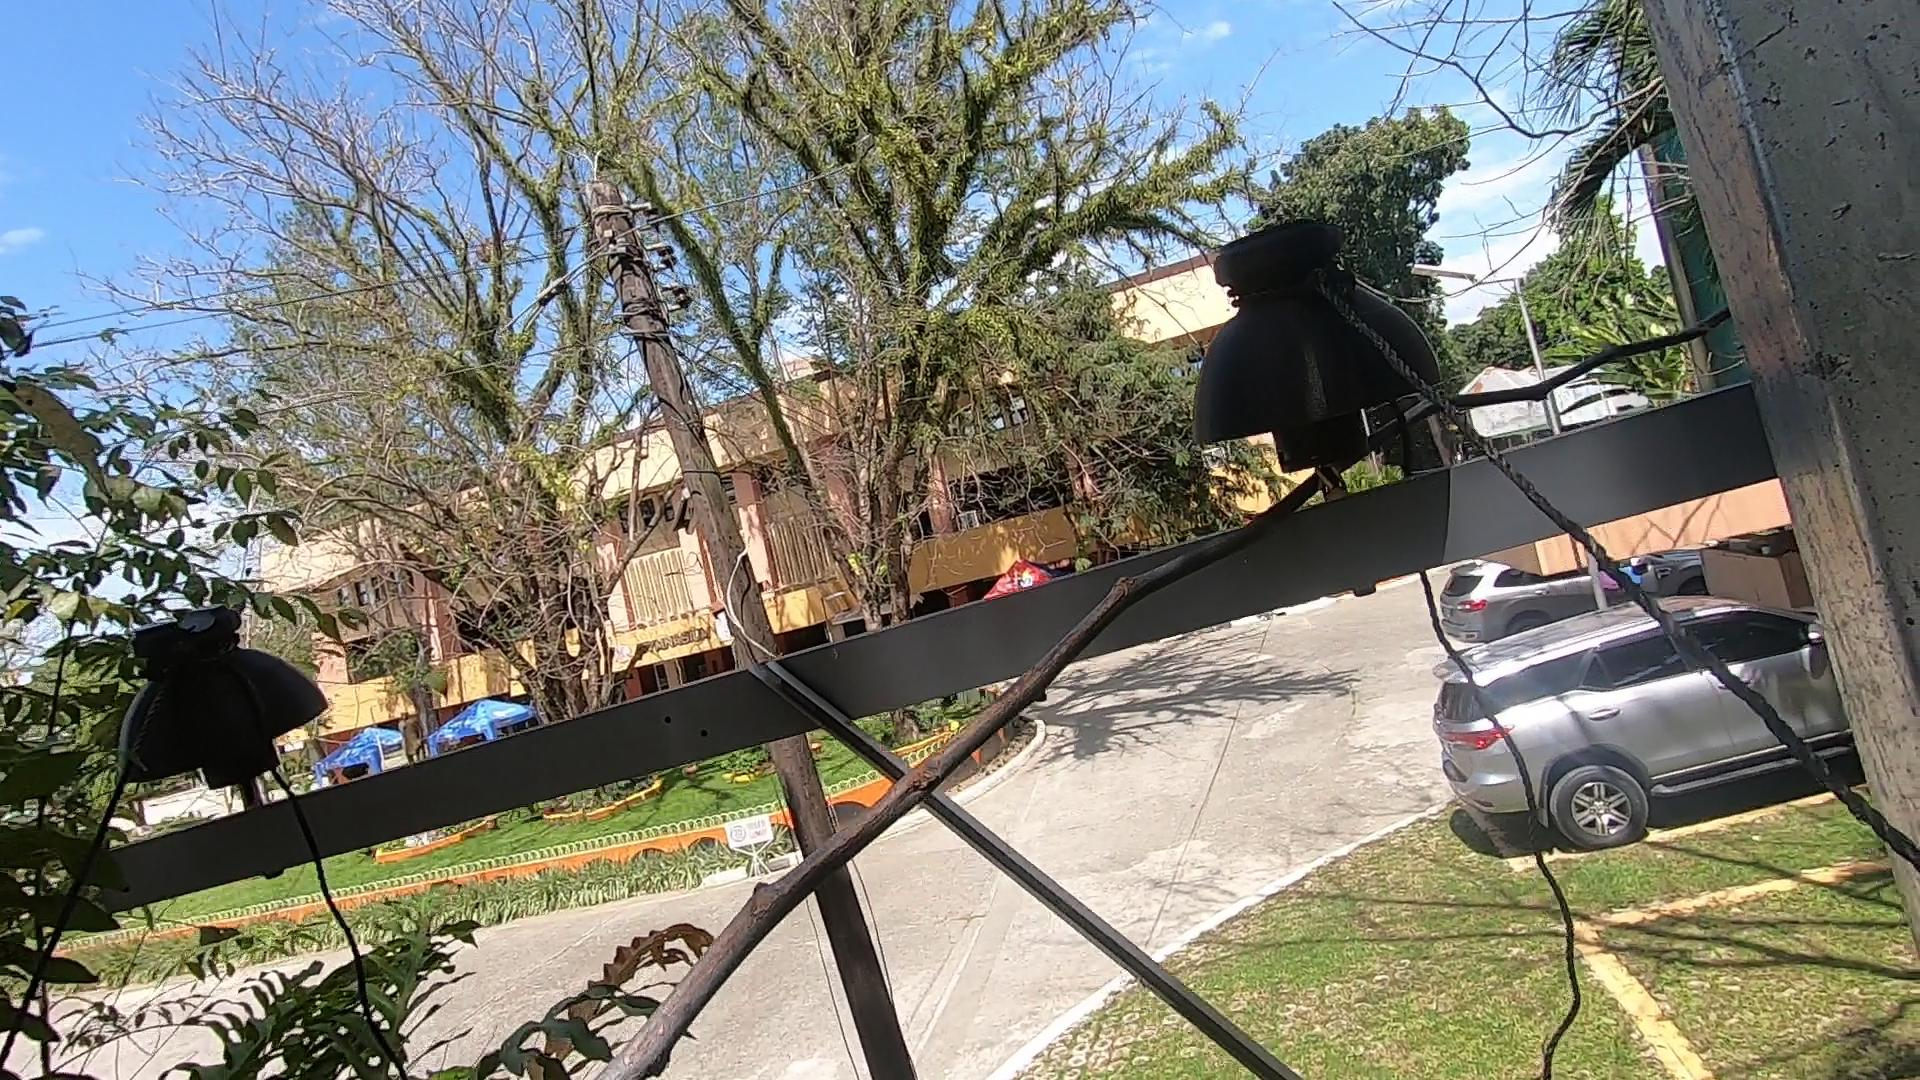tree branch: (593, 227, 1811, 1080)
